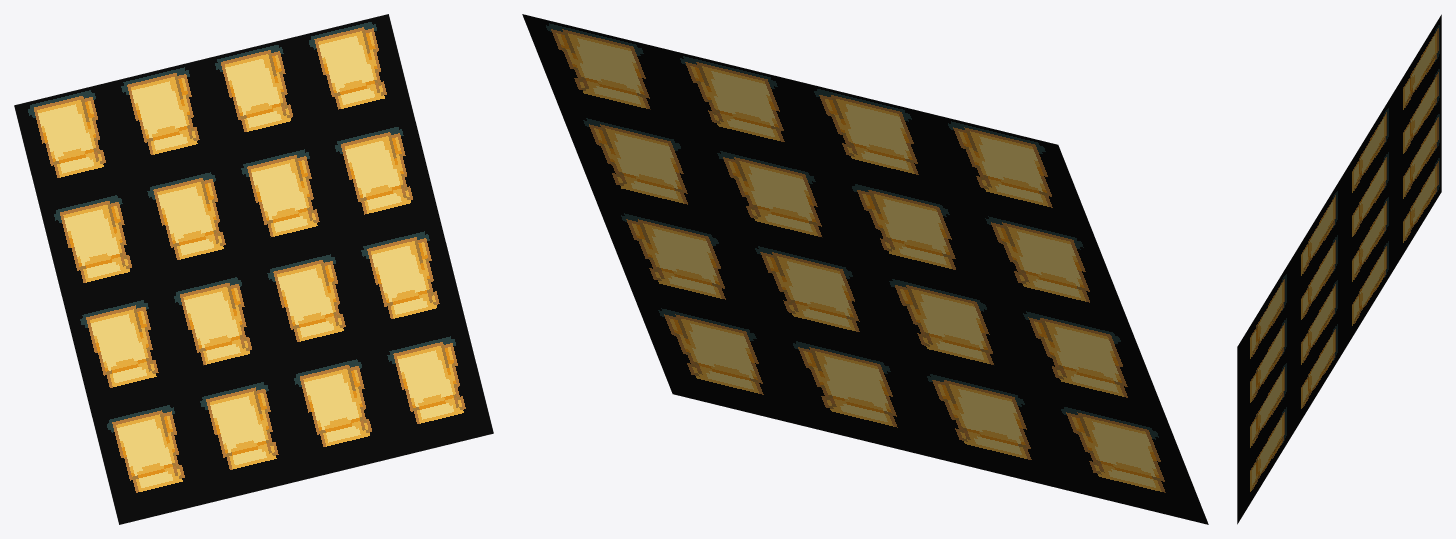
The model's file is 5164icon_ucca00.gltf.
3 renders of one model, left to right at view 1: azimuth 30°, elevation 25°; view 2: azimuth 150°, elevation 25°; view 3: azimuth 270°, elevation 25°, orthographic. The views are drawn at different scales.
Parts seen in each view (by area): view 1: 5164icon_ucca00; view 2: 5164icon_ucca00; view 3: 5164icon_ucca00.
Boxes of the visible parts, box(x1,y1,x2,y2) form: 5164icon_ucca00: box(14, 14, 493, 524); 5164icon_ucca00: box(522, 14, 1208, 524); 5164icon_ucca00: box(1237, 14, 1441, 524).
Size of the model in its own units: 0.6968 by 0.6089 by 0.3389.
1 material, 1 textured.
